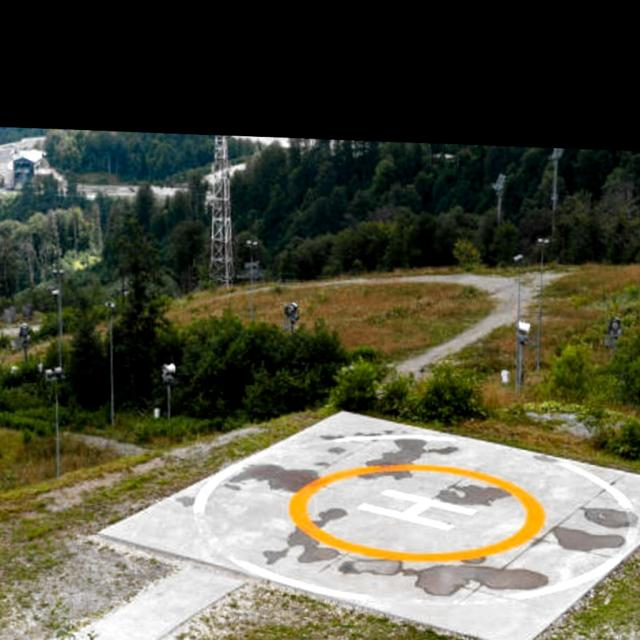helipad: (286, 460, 548, 564)
